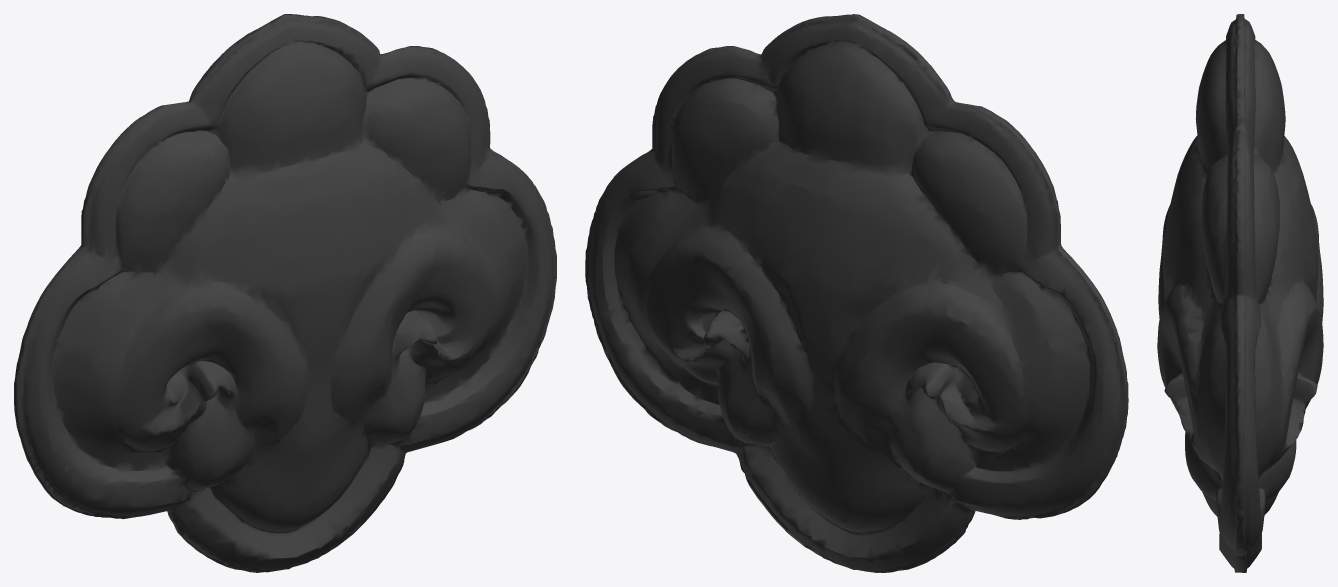
File: pr_nube_dorada.glb
3 views of the same model, side by side, from view 1: azimuth 30°, elevation 25°; view 2: azimuth 150°, elevation 25°; view 3: azimuth 270°, elevation 25° (orthographic). The views are drawn at different scales.
Visible parts, largest first — view 1: geometry_0; view 2: geometry_0; view 3: geometry_0.
Boxes of the visible parts, x1,y1,x2,y2 form: geometry_0: (14,14,556,572); geometry_0: (585,14,1128,572); geometry_0: (1157,14,1323,572).
Bounding box in the file's own units: 1.01 × 0.9854 × 0.2752.
1 material, 1 textured.
